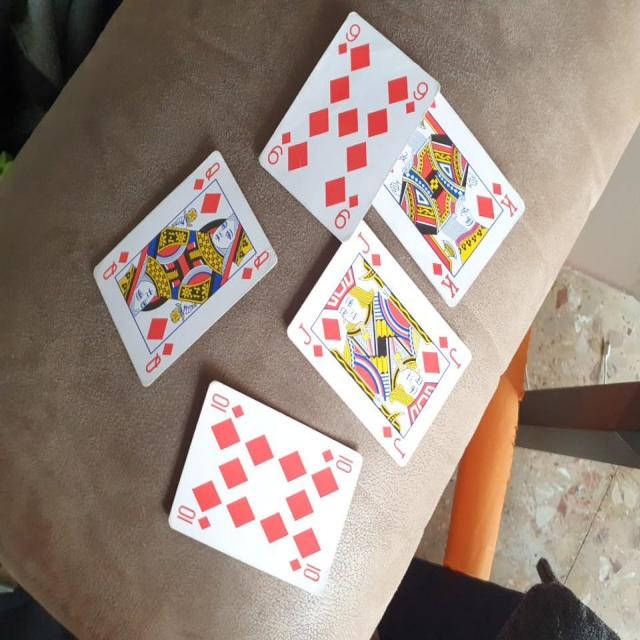10 Diamonds: (165, 381, 364, 599)
9 Diamonds: (256, 5, 442, 242)
J Diamonds: (284, 215, 473, 466)
K Diamonds: (370, 93, 529, 310)
Q Diamonds: (91, 148, 280, 392)
